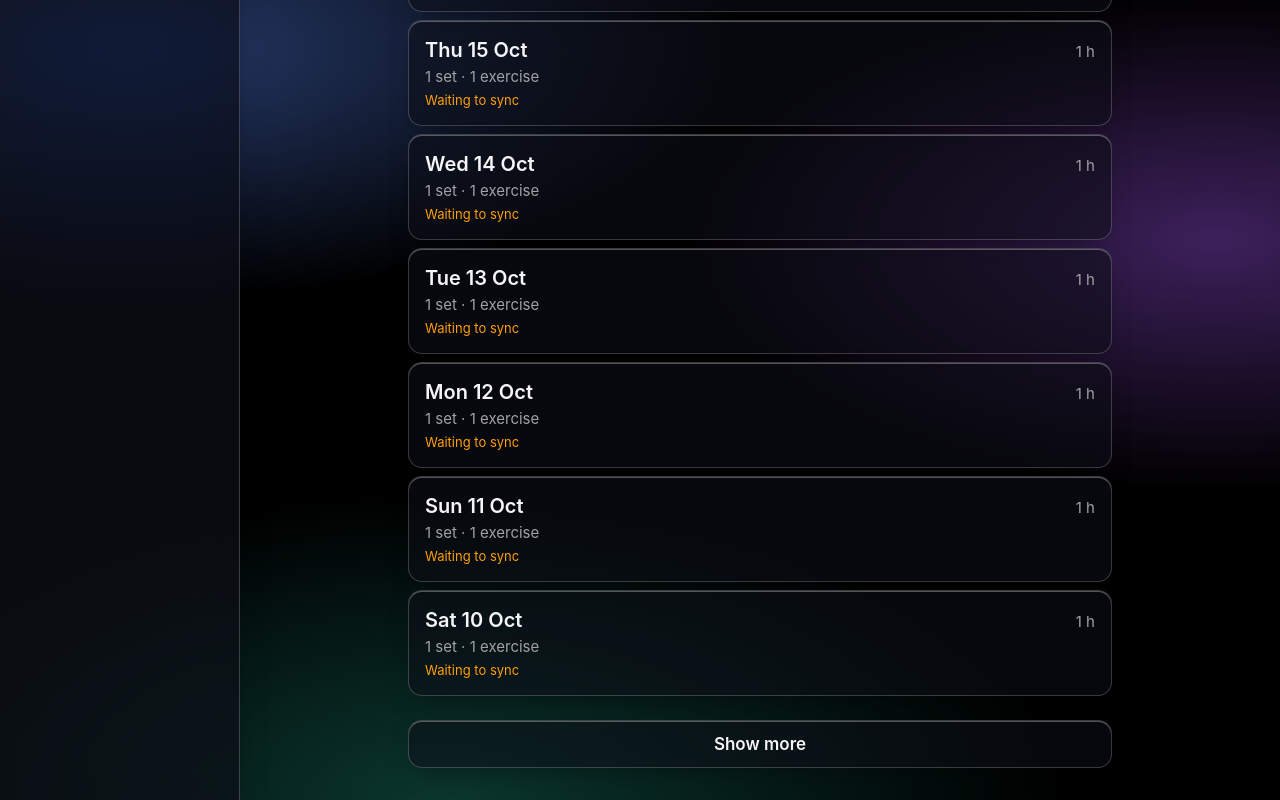
it: QA history paging boundaries › has no Show more at exactly 40 after one tap (no empty last page)
The width and height of the screenshot is (1280, 800).
(page scrolled)
Click the button "Show more". click: (760,744)
box: [408, 720, 1112, 768]
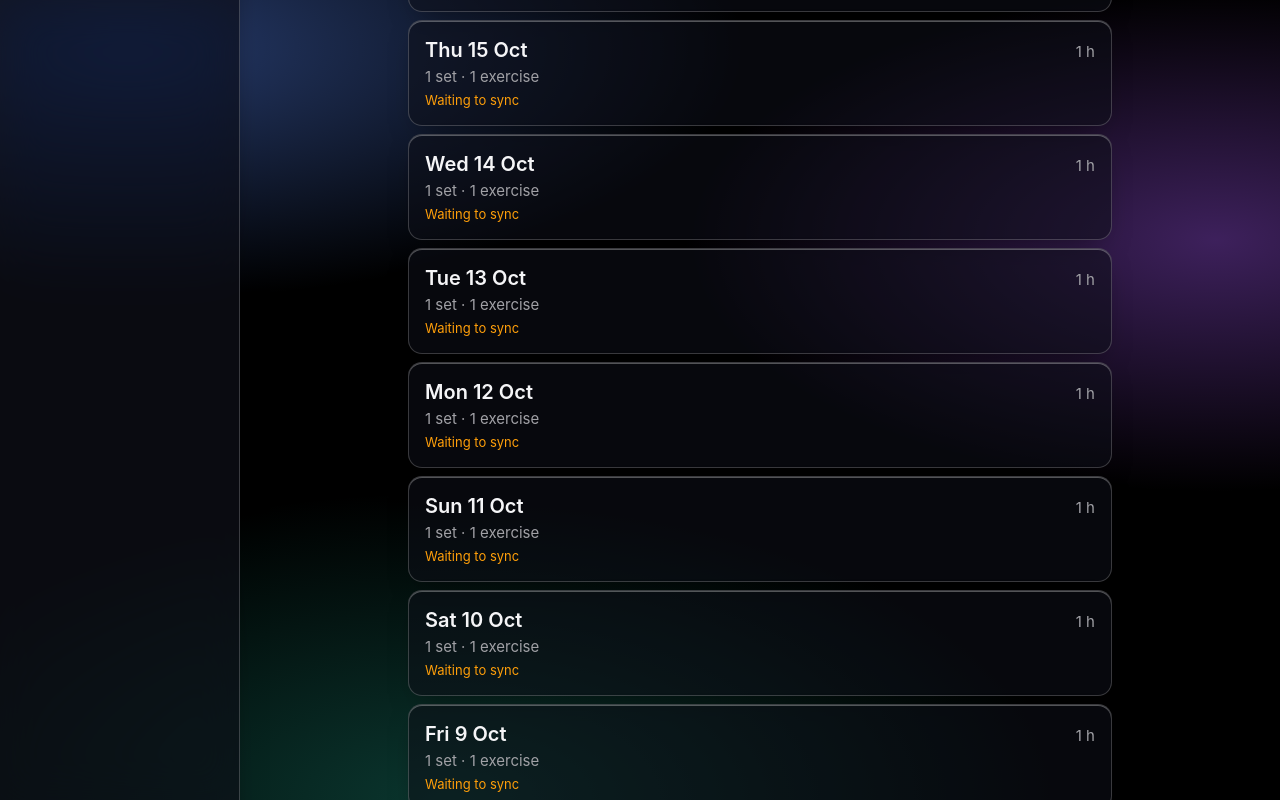
Check: the button "Show more" is gone
